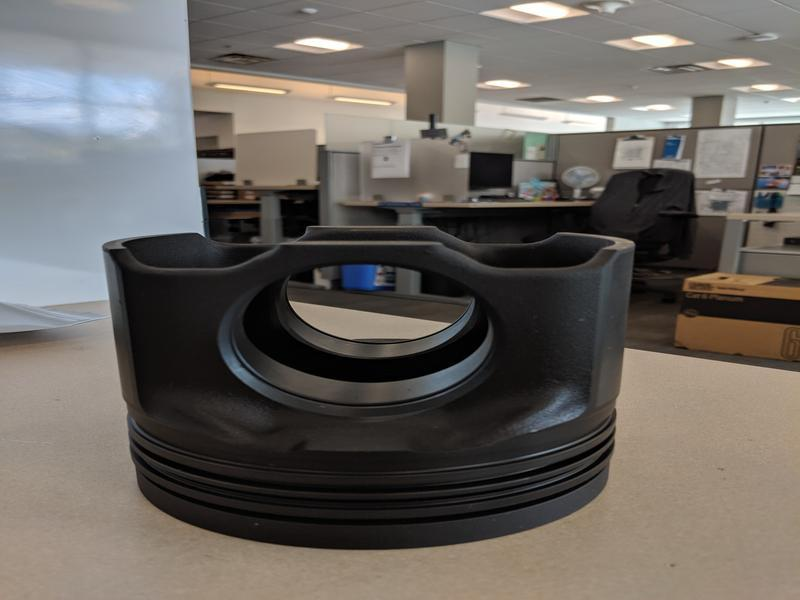piston: (100, 222, 640, 554)
